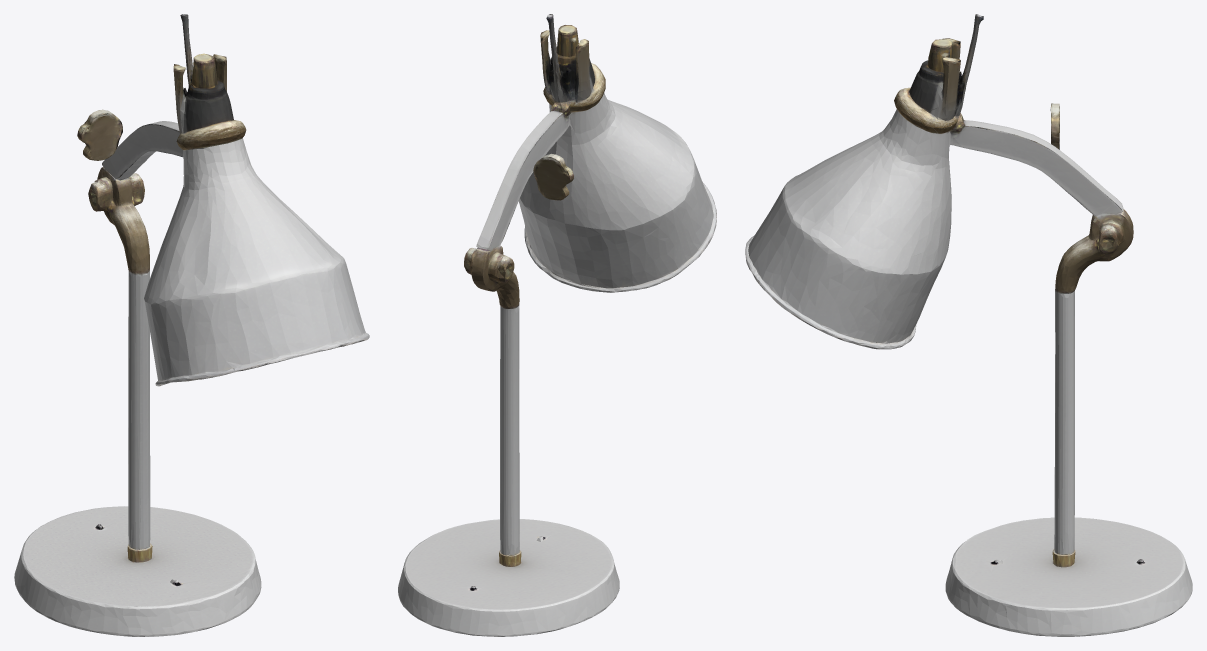
The model's file is 5708364e-5d8c-41b9-beb1-59845cc3d06b.glb.
3 renders of one model, left to right at view 1: azimuth 30°, elevation 25°; view 2: azimuth 150°, elevation 25°; view 3: azimuth 270°, elevation 25°, orthographic. The views are drawn at different scales.
Visible parts, largest first — view 1: world; view 2: world; view 3: world.
Boxes of the visible parts, x1,y1,x2,y2 form: world: [14, 14, 369, 636]; world: [398, 14, 716, 636]; world: [745, 14, 1192, 636].
Bounding box in the file's own units: 0.3621 × 0.9963 × 0.7033.
Materials: 1 (1 with a texture image).
